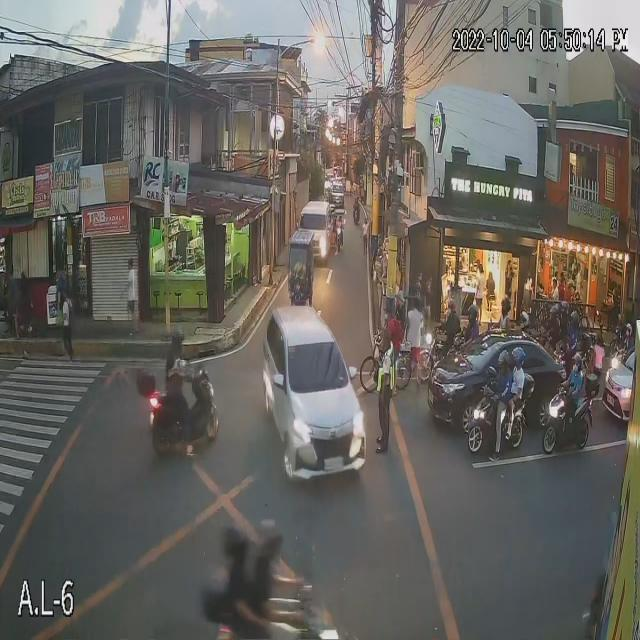helmet: (225, 527, 247, 559), (257, 532, 280, 559), (567, 353, 587, 377), (511, 345, 530, 369), (172, 324, 185, 356), (495, 349, 510, 375), (565, 311, 584, 330), (515, 310, 533, 330), (467, 305, 483, 326), (498, 298, 512, 319), (545, 305, 561, 323), (557, 299, 573, 317), (622, 321, 633, 338), (445, 300, 457, 314)
motorcycle: (203, 522, 340, 640), (147, 360, 219, 452), (466, 368, 527, 453), (541, 372, 594, 453), (426, 330, 462, 385), (609, 345, 631, 377), (351, 208, 363, 226)
rider: (253, 517, 292, 611), (161, 318, 194, 426), (216, 520, 249, 605), (561, 347, 592, 408), (491, 349, 515, 415), (508, 346, 533, 399), (563, 312, 585, 352), (491, 292, 514, 328), (442, 293, 459, 341), (554, 297, 573, 336), (544, 303, 561, 345), (465, 302, 483, 341), (516, 308, 534, 339), (620, 317, 635, 351), (351, 193, 361, 215)
